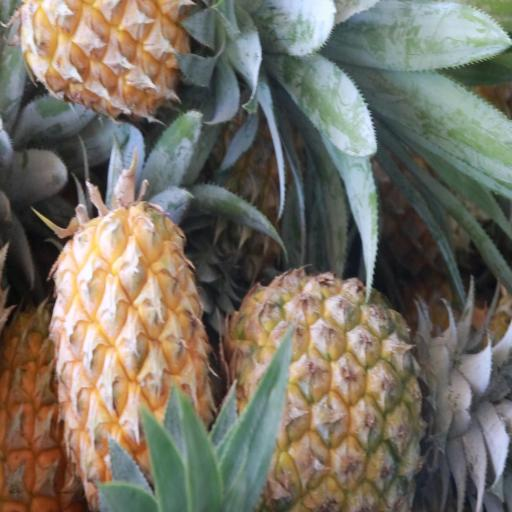Pineapple - v8 v1: (233, 260, 443, 512), (51, 196, 214, 512), (17, 1, 257, 115)
